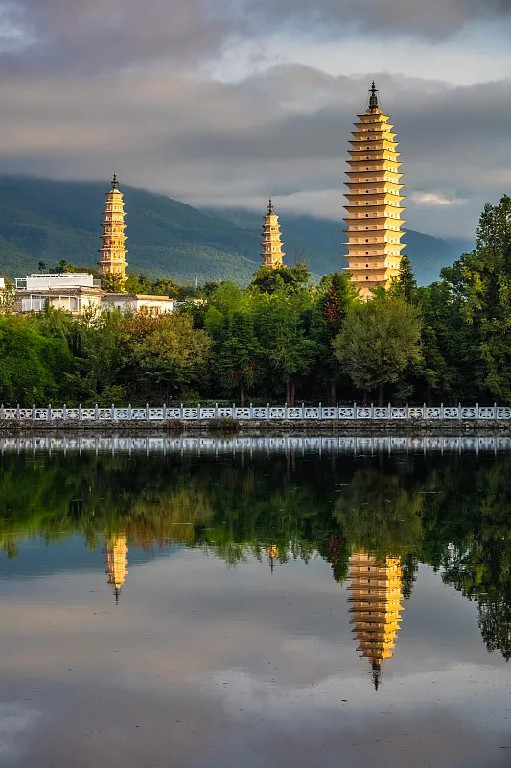ThreePagoda: (343, 78, 406, 293)
